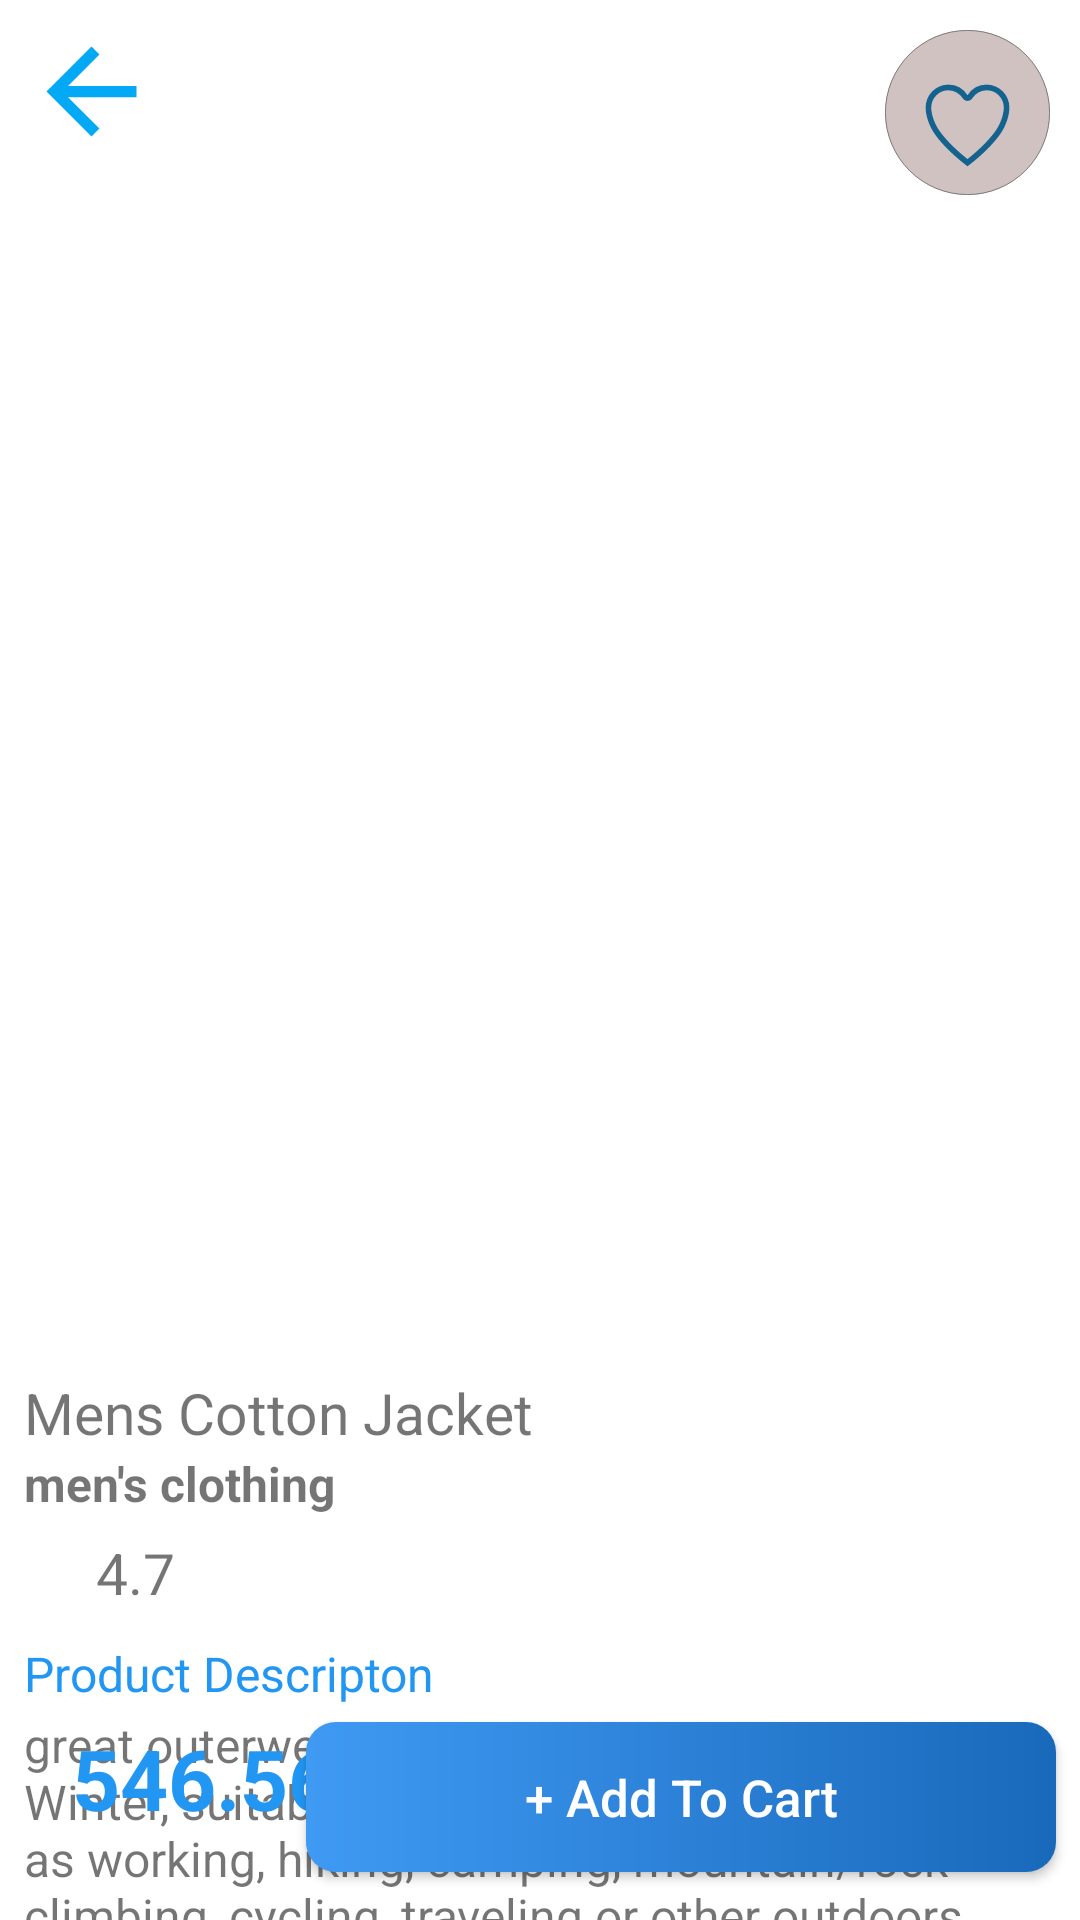

Icon bounding boxes for this 1080 x 1920 phone screenshot, format bbox=[x1, y1, x2, y2]:
arrow back: bbox=[46, 46, 137, 137]
favorite: bbox=[885, 30, 1050, 195]
